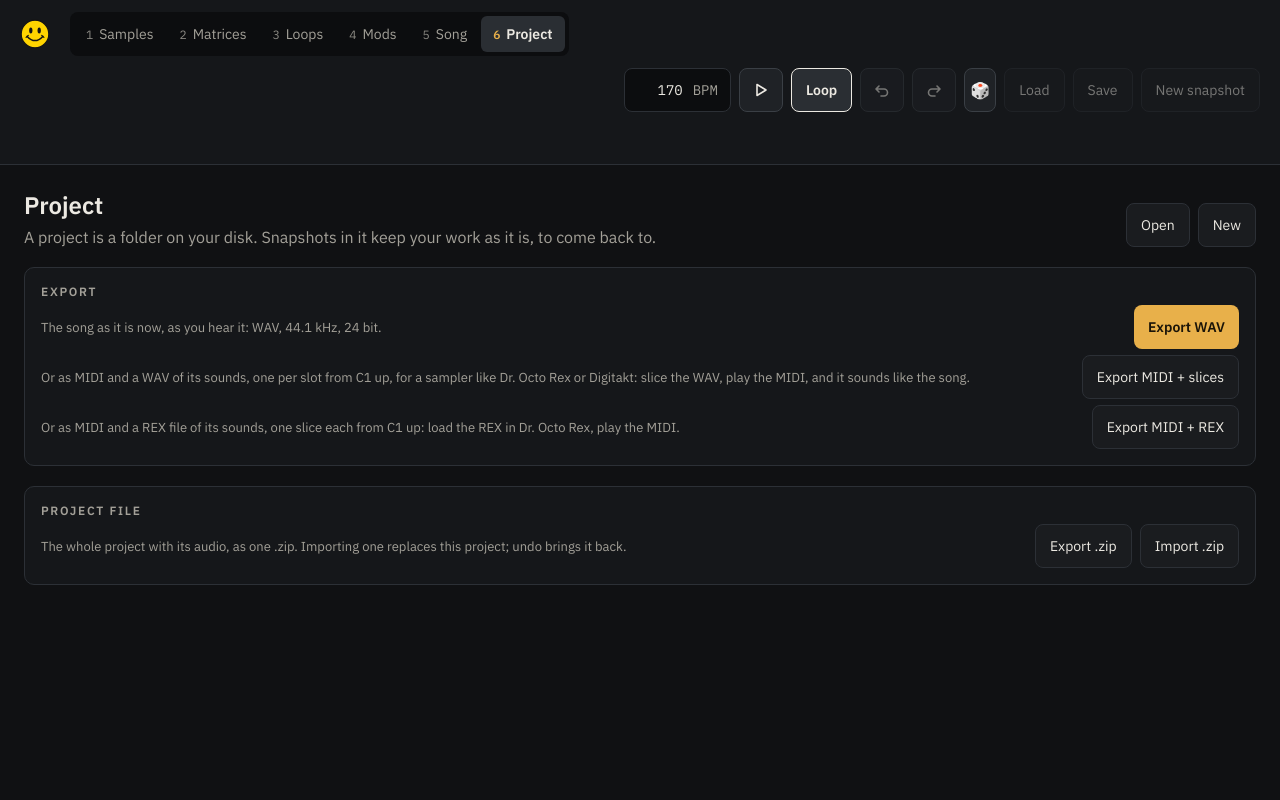
export in Project › Export MIDI + REX exports the song as a MIDI file and a REX file for Dr. Octo Rex
Click the button "Export MIDI + REX".
click(1165, 427)  # box [1092,405,1239,449]
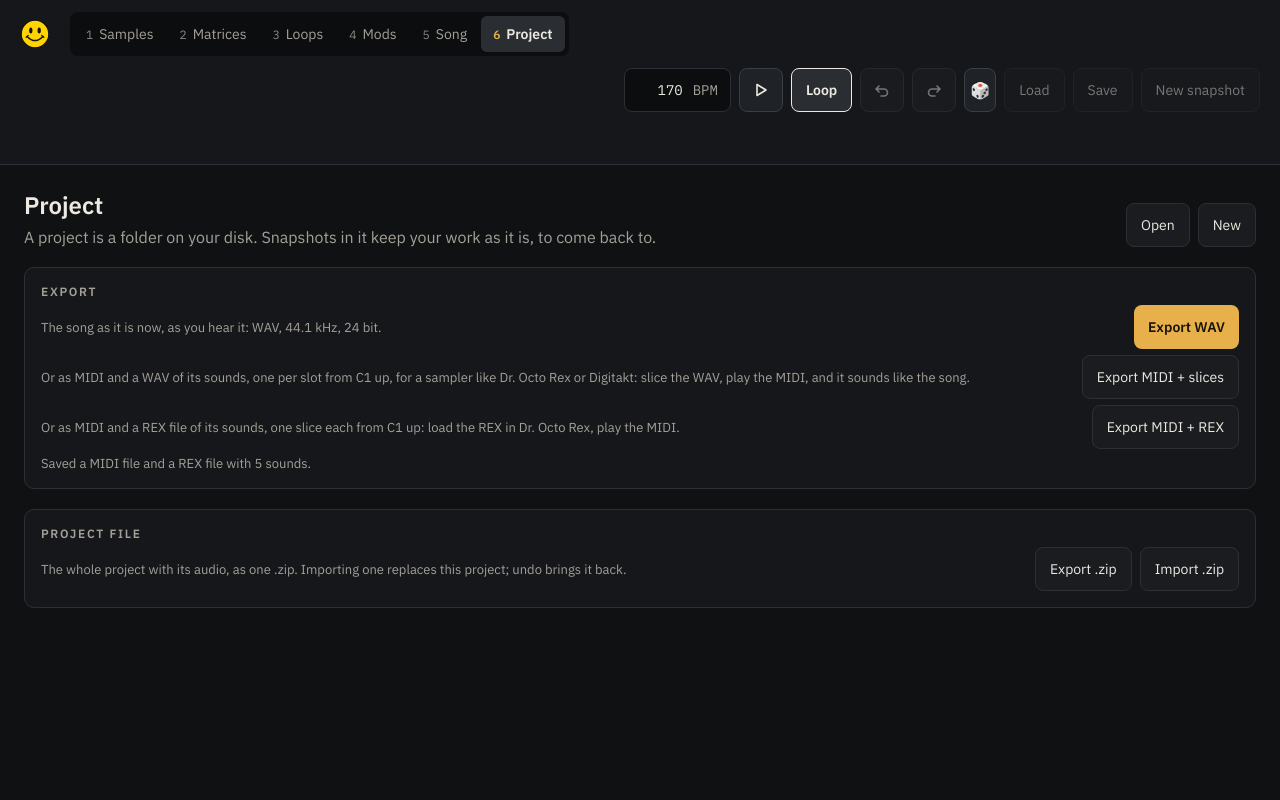
Expected: the message reads "Saved a MIDI file and a REX file with 5 sounds.", [41,455,311,472]
